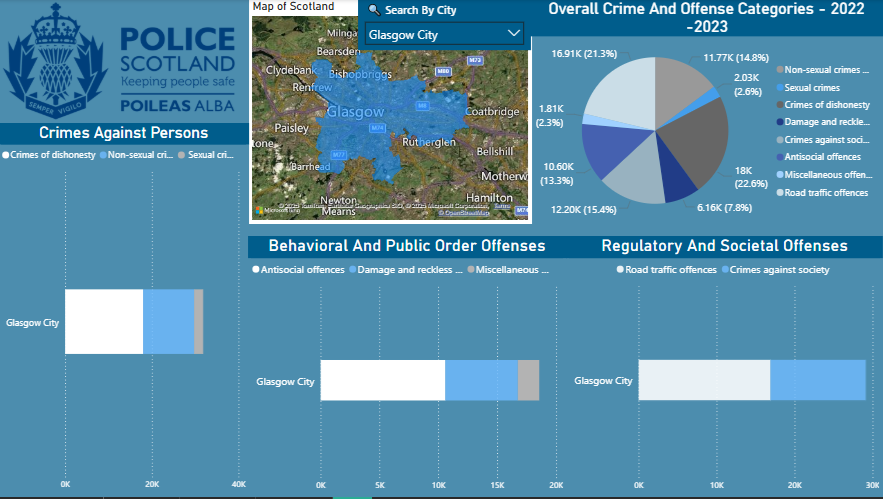

The page's visual inventory and layout, read from the dashboard file:
{"tool":"powerbi","page":{"name":"Page 1","canvas":[1280,720],"ordinal":0},"visuals":[{"type":"pieChart","fields":{"Y":["Sum(Scotland Crime Report 2022-23, Cities Breakdown.All Group 1: Non-sexual crimes of violence)","Sum(Scotland Crime Report 2022-23, Cities Breakdown.All Group 2: Sexual crimes)","Sum(Scotland Crime Report 2022-23, Cities Breakdown.All Group 3: Crimes of dishonesty)","Sum(Scotland Crime Report 2022-23, Cities Breakdown.All Group 4: Damage and reckless behaviour)","Sum(Scotland Crime Report 2022-23, Cities Breakdown.All Group 5: Crimes against society)","Sum(Scotland Crime Report 2022-23, Cities Breakdown.All Group 6: Antisocial offences)","Sum(Scotland Crime Report 2022-23, Cities Breakdown.All Group 7: Miscellaneous offences)","Sum(Scotland Crime Report 2022-23, Cities Breakdown.All Group 8: Road traffic offences)"]},"box":[770.6,27.5,508.9,325.3],"z":0},{"type":"image","box":[0,0,348.4,179.3],"z":1000},{"type":"filledMap","fields":{"Category":["Scotland Crime Report 2022-23, Cities Breakdown.Reference Area"]},"box":[362.9,0,407.7,325.3],"z":2000},{"type":"barChart","title":"Crimes Against Persons","fields":{"Category":["Scotland Crime Report 2022-23, Cities Breakdown.Reference Area"],"Y":["Sum(Scotland Crime Report 2022-23, Cities Breakdown.All Group 3: Crimes of dishonesty)","Sum(Scotland Crime Report 2022-23, Cities Breakdown.All Group 1: Non-sexual crimes of violence)","Sum(Scotland Crime Report 2022-23, Cities Breakdown.All Group 2: Sexual crimes)"]},"box":[0,179.7,362.8,540.9],"z":3000},{"type":"barChart","title":"Behavioral And Public Order Offenses ","fields":{"Category":["Scotland Crime Report 2022-23, Cities Breakdown.Reference Area"],"Y":["Sum(Scotland Crime Report 2022-23, Cities Breakdown.All Group 6: Antisocial offences)","Sum(Scotland Crime Report 2022-23, Cities Breakdown.All Group 4: Damage and reckless behaviour)","Sum(Scotland Crime Report 2022-23, Cities Breakdown.All Group 7: Miscellaneous offences)"]},"box":[361.2,342.7,460.3,378],"z":4000},{"type":"barChart","title":"Regulatory And Societal Offenses ","fields":{"Category":["Scotland Crime Report 2022-23, Cities Breakdown.Reference Area"],"Y":["Sum(Scotland Crime Report 2022-23, Cities Breakdown.All Group 8: Road traffic offences)","Sum(Scotland Crime Report 2022-23, Cities Breakdown.All Group 5: Crimes against society)"]},"box":[821.2,342.7,458.3,377.3],"z":5000},{"type":"shape","title":"Overall Crime And Offense Categories - 2022 -2023","box":[769.3,0,510.7,53.8],"z":6000},{"type":"slicer","fields":{"Values":["Scotland Crime Report 2022-23, Cities Breakdown.Reference Area"]},"box":[520.5,0,250.1,73.7],"z":7000}]}

Visuals, with their boxes in screenshot pixels (x1, y1, x2, y2), scaled from the page's 1280x720 canvas onto the 883x499 screenshot:
pieChart - Sum(Scotland Crime Report 2022-23, Cities Breakdown.All Group 1: Non-sexual crimes of violence) x Sum(Scotland Crime Report 2022-23, Cities Breakdown.All Group 2: Sexual crimes): bbox=[532, 19, 882, 245]
image: bbox=[0, 0, 240, 124]
filledMap - Scotland Crime Report 2022-23, Cities Breakdown.Reference Area: bbox=[250, 0, 532, 225]
"Crimes Against Persons" barChart: bbox=[0, 125, 250, 498]
"Behavioral And Public Order Offenses " barChart: bbox=[249, 238, 567, 498]
"Regulatory And Societal Offenses " barChart: bbox=[566, 238, 882, 498]
"Overall Crime And Offense Categories - 2022 -2023" shape: bbox=[531, 0, 882, 37]
slicer - Scotland Crime Report 2022-23, Cities Breakdown.Reference Area: bbox=[359, 0, 532, 51]
